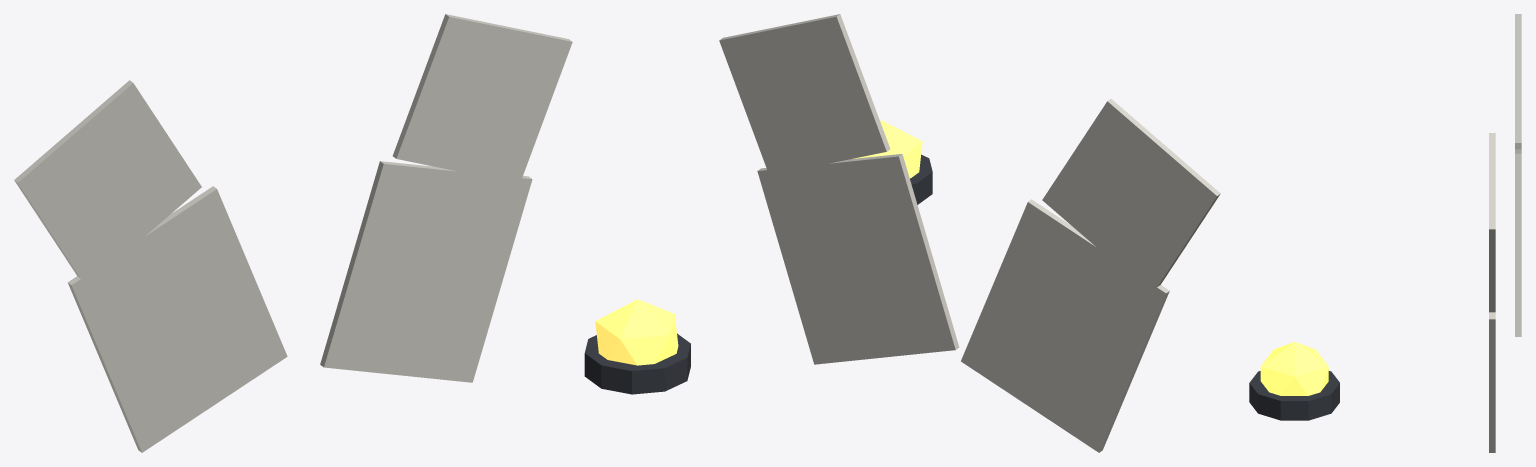
The model's file is shredder_m1_1.glb.
3 views of the same model, side by side, from view 1: azimuth 30°, elevation 25°; view 2: azimuth 150°, elevation 25°; view 3: azimuth 270°, elevation 25° (orthographic). The views are drawn at different scales.
Parts seen in each view (by area): view 1: shredder_m1_1_mesh; view 2: shredder_m1_1_mesh; view 3: shredder_m1_1_mesh.
Part boxes in pixels (<box>): shredder_m1_1_mesh: <box>14,14,690,452</box>; shredder_m1_1_mesh: <box>719,14,1220,452</box>; shredder_m1_1_mesh: <box>1249,14,1521,452</box>.
Size of the model in its own units: 0.4817 by 0.3213 by 0.252.
